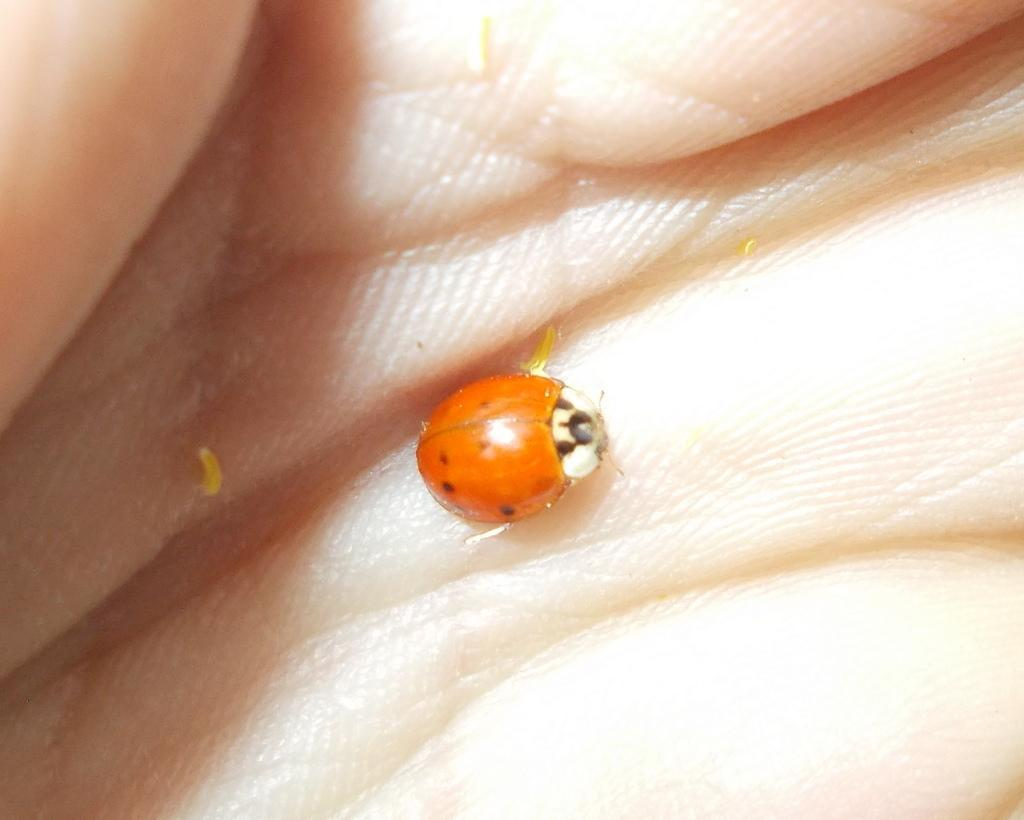ladybug: (417, 372, 628, 527)
